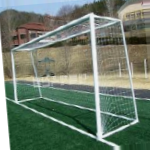goals: (10, 11, 142, 141)
